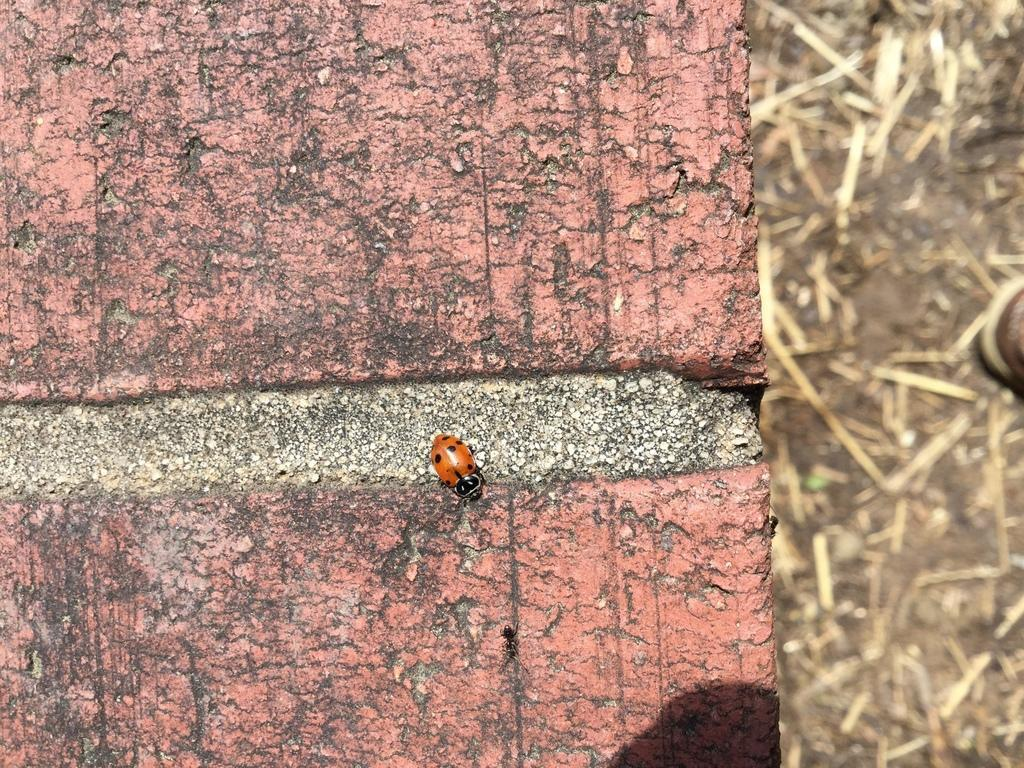ladybug: (427, 429, 493, 515)
